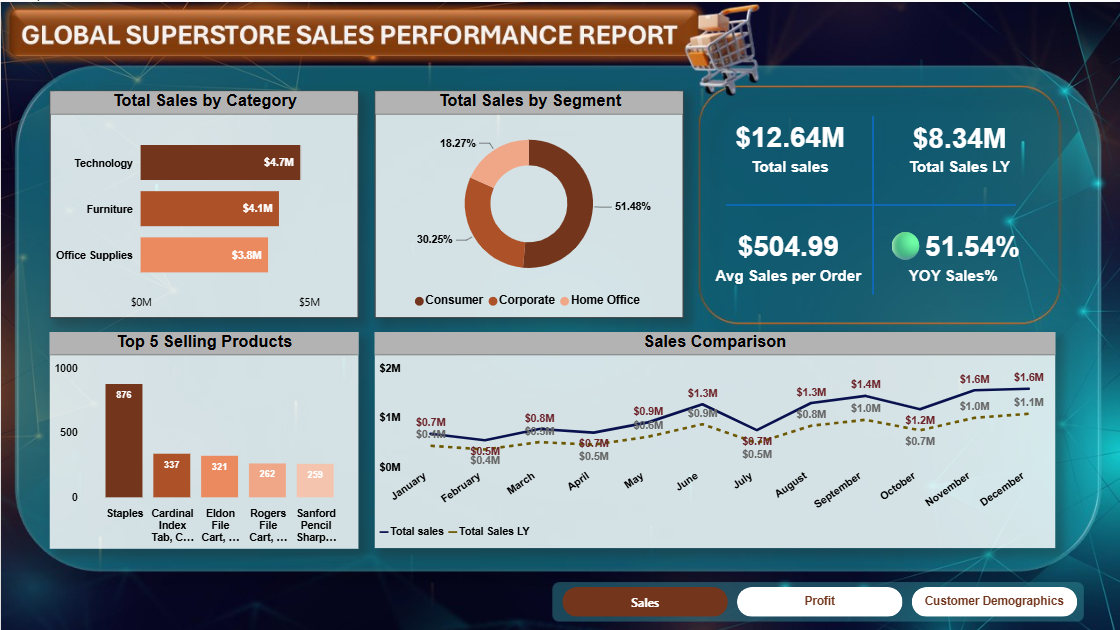

The page's visual inventory and layout, read from the dashboard file:
{"tool":"powerbi","page":{"name":"Sales","canvas":[1280,720],"ordinal":0},"visuals":[{"type":"card","fields":{"Values":["Reftbl.Total sales"]},"box":[808.3,106.2,183.4,117],"z":0},{"type":"card","fields":{"Values":["Reftbl.Total_sales_ly"]},"box":[1006.2,105,173.7,118.2],"z":1000},{"type":"card","fields":{"Values":["Reftbl.avg_sales_per_order"]},"box":[803.5,223.2,188.2,129.1],"z":2000},{"type":"card","fields":{"Values":["Reftbl.yoy_sales%"]},"box":[991.7,230.4,188.2,114.6],"z":3000},{"type":"barChart","title":"Total Sales by Category","fields":{"Category":["globalsuperstore.Category"],"Y":["Reftbl.Total sales"]},"box":[55.5,101.3,352.3,259.4],"z":4000},{"type":"donutChart","title":"Total Sales by Segment","fields":{"Series":["globalsuperstore.Segment"],"Y":["Reftbl.Total sales"]},"box":[425.9,101.3,352.3,259.4],"z":5000},{"type":"clusteredColumnChart","title":"Top 5 Selling Products ","fields":{"Category":["globalsuperstore.Product Name"],"Y":["Reftbl.Total Qty"]},"box":[55.5,376.4,352.3,247.3],"z":6000},{"type":"lineChart","title":"Sales Comparison","fields":{"Category":["date_tbl1.Date.Variation.Date Hierarchy.Month"],"Y":["Reftbl.Total sales","Reftbl.Total_sales_ly"]},"box":[425.9,376.4,775.7,246.1],"z":7000},{"type":"shape","box":[826.4,80.8,330.6,300.4],"z":8000},{"type":"shape","box":[842.1,129.1,304,203.9],"z":9000},{"type":"pageNavigator","box":[639.5,666.9,587.3,34.3],"z":10000}]}

Visuals, with their boxes in screenshot pixels (x1, y1, x2, y2), scaled from the page's 1280x720 canvas onto the 1120x630 screenshot:
card - Reftbl.Total sales: locate(707, 93, 868, 195)
card - Reftbl.Total_sales_ly: locate(880, 92, 1032, 195)
card - Reftbl.avg_sales_per_order: locate(703, 195, 868, 308)
card - Reftbl.yoy_sales%: locate(868, 202, 1032, 302)
"Total Sales by Category" barChart: locate(49, 89, 357, 316)
"Total Sales by Segment" donutChart: locate(373, 89, 681, 316)
"Top 5 Selling Products " clusteredColumnChart: locate(49, 329, 357, 546)
"Sales Comparison" lineChart: locate(373, 329, 1051, 545)
shape: locate(723, 71, 1012, 334)
shape: locate(737, 113, 1003, 291)
pageNavigator: locate(560, 584, 1073, 614)
